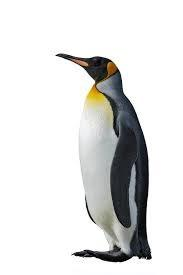king: (42, 43, 175, 268)
